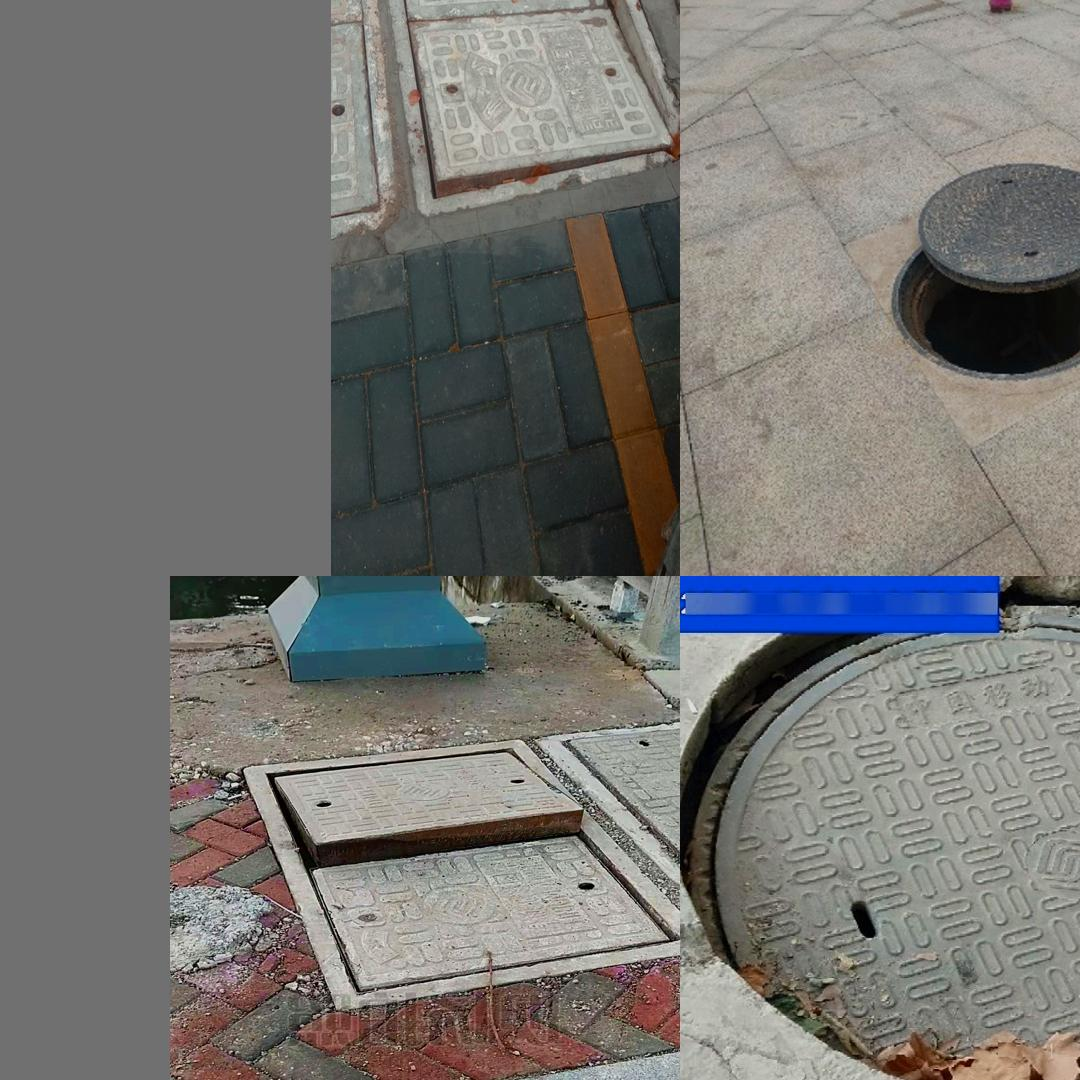uncovered: (693, 605, 1080, 1080), (272, 729, 610, 1000), (373, 0, 676, 216), (889, 162, 1080, 380)
